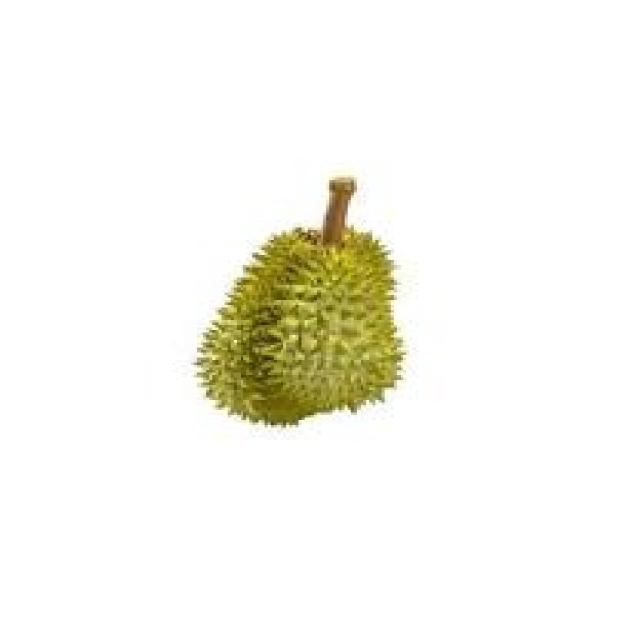fruit: (172, 207, 425, 455)
